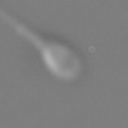normal: (1, 7, 48, 48)
